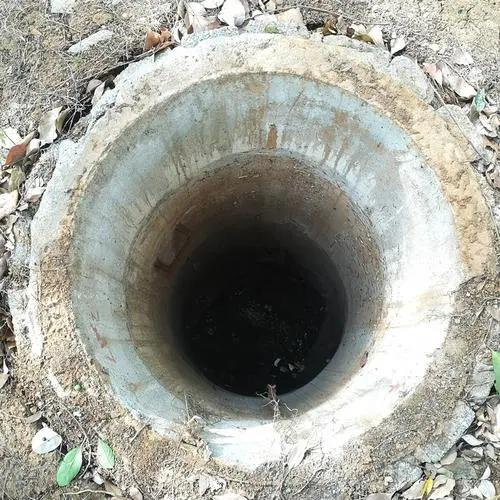wellcover: (69, 78, 442, 447)
